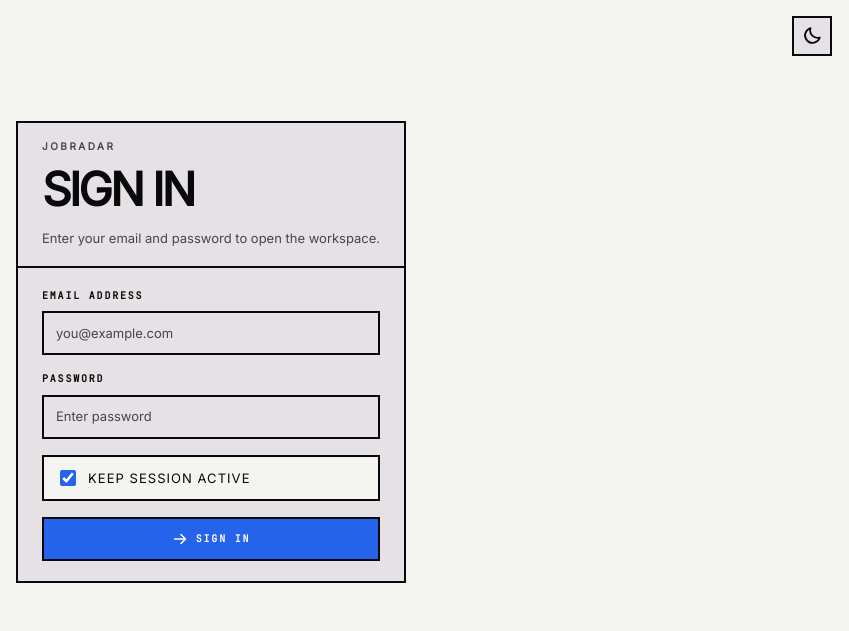
Scenario: Login › shows error message when login fails
Type "wrong@example.com" into the field with placeholder "you@example.com" at (211, 333), box [42,311,380,355]
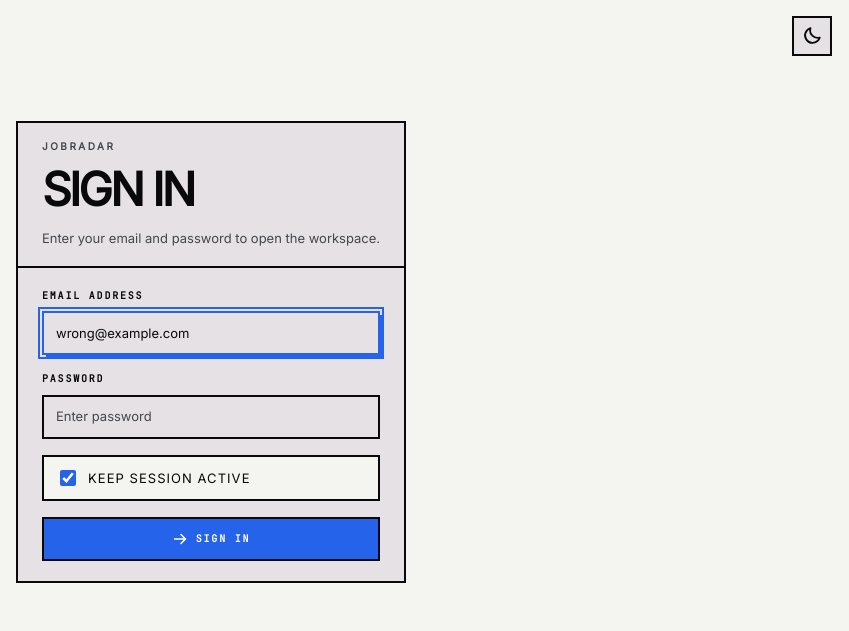
Type "wrong" into the password field with placeholder "Enter password" at (211, 417), box [42,395,380,439]
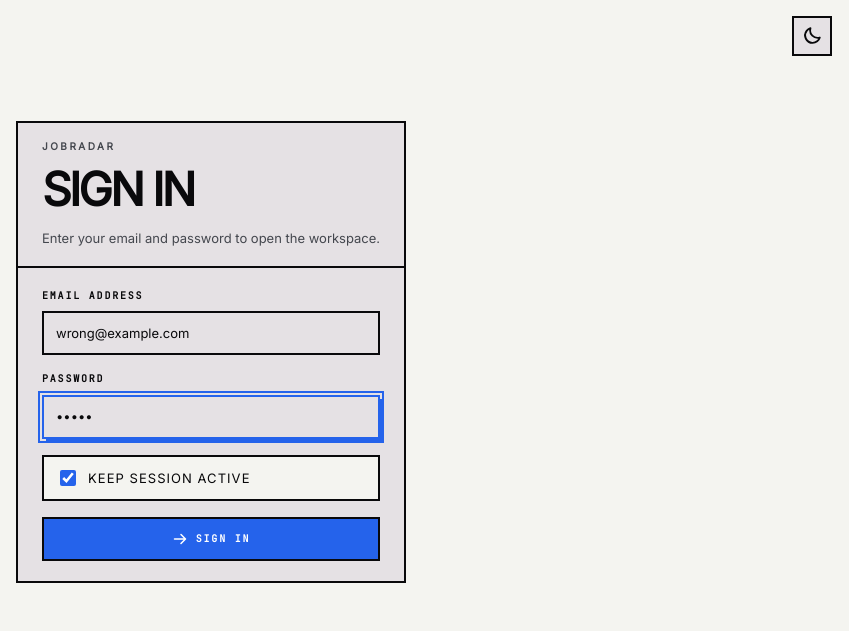
Click the button "Sign in" at (211, 539), box [42,517,380,561]
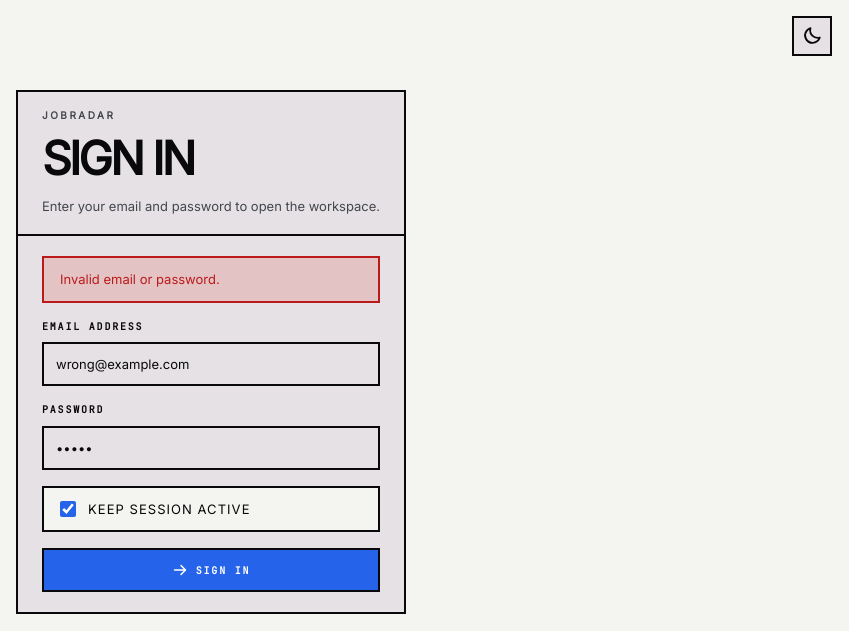
expect the text "Invalid email or password." is shown: met, box [42,256,380,303]
